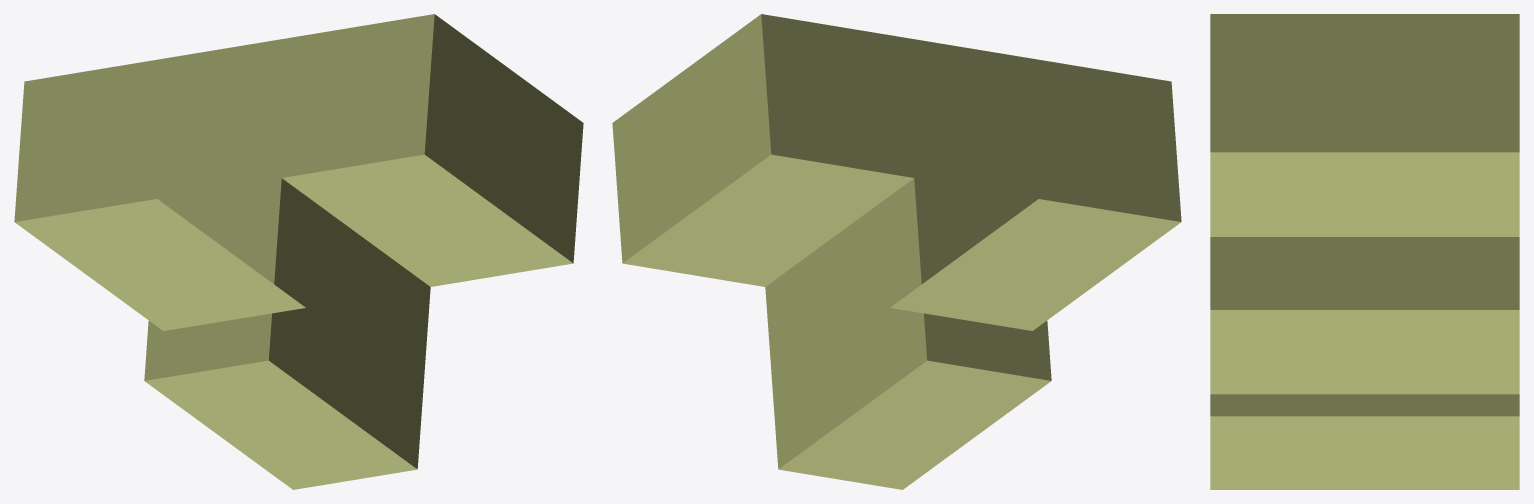
The picture shows the model from 3 angles, left to right: view 1: azimuth 30°, elevation 25°; view 2: azimuth 150°, elevation 25°; view 3: azimuth 270°, elevation 25°; orthographic projection. The views are drawn at different scales.
Visible parts, largest first — view 1: 0_1_3_2_1_1_2_2_2; view 2: 0_1_3_2_1_1_2_2_2; view 3: 0_1_3_2_1_1_2_2_2.
Boxes of the visible parts, <box> form: 0_1_3_2_1_1_2_2_2: <box>14,14,583,489</box>; 0_1_3_2_1_1_2_2_2: <box>612,14,1181,489</box>; 0_1_3_2_1_1_2_2_2: <box>1210,14,1519,489</box>.
Bounding box in the file's own units: 14.66 × 11.29 × 9.
